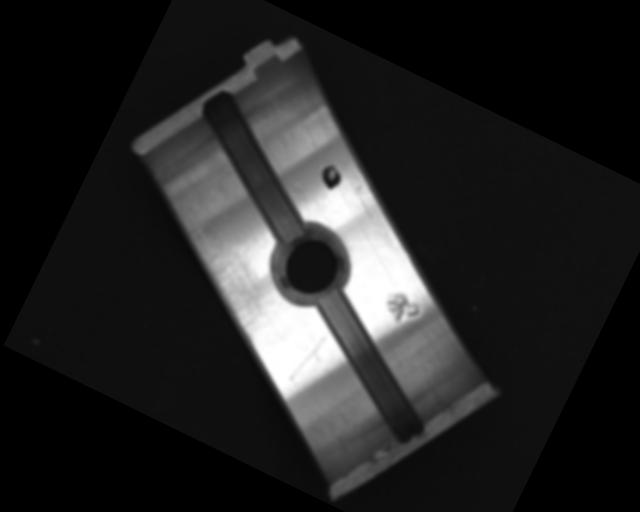blot: (314, 160, 346, 193)
bruise: (378, 287, 425, 332)
gap: (280, 287, 461, 450), (166, 86, 342, 246)
hole: (258, 212, 365, 319)
nick: (289, 324, 331, 387)
scratch: (144, 206, 300, 350)
